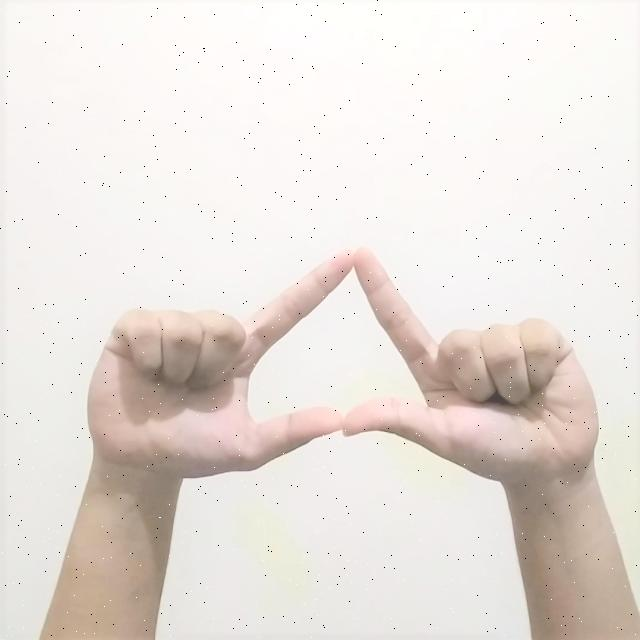A: (79, 239, 609, 488)
